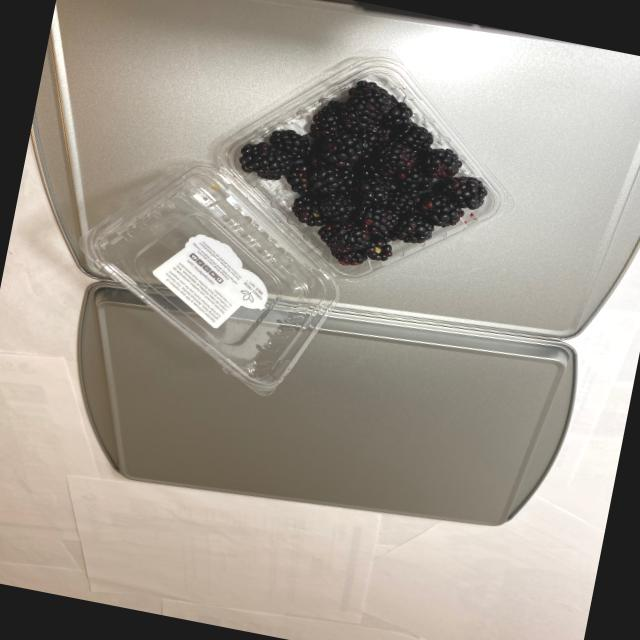blackberries: (176, 47, 512, 319)
